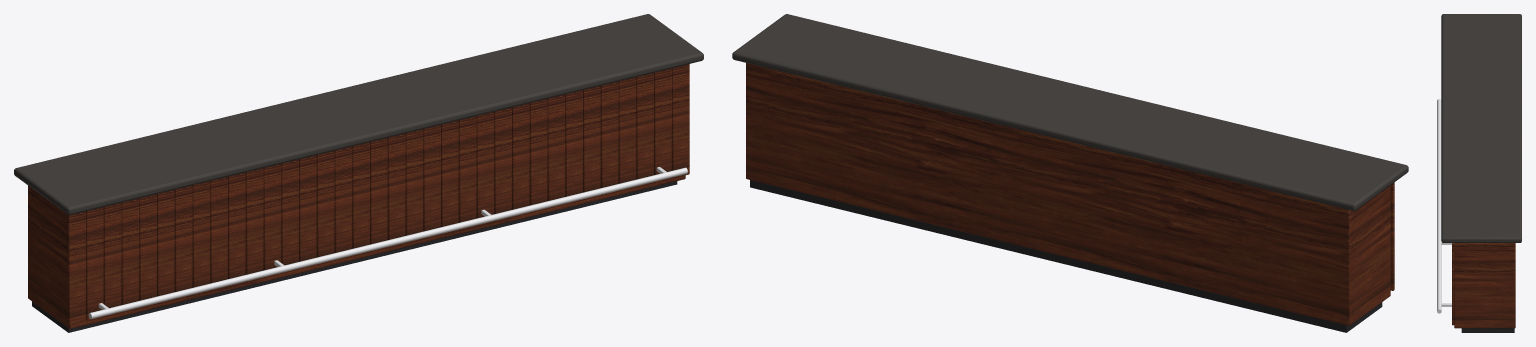
File: bar_counter.glb
The picture shows the model from 3 angles, left to right: view 1: azimuth 30°, elevation 25°; view 2: azimuth 150°, elevation 25°; view 3: azimuth 270°, elevation 25°; orthographic projection. The views are drawn at different scales.
Parts seen in each view (by area): view 1: dark_wood, granite_polished, chrome, black_plastic; view 2: dark_wood, granite_polished, black_plastic; view 3: granite_polished, dark_wood, chrome, black_plastic.
Boxes of the visible parts, x1,y1,x2,y2 form: dark_wood: (28, 64, 689, 328); granite_polished: (14, 14, 703, 214); chrome: (88, 167, 687, 318); black_plastic: (32, 181, 677, 332); dark_wood: (746, 63, 1394, 325); granite_polished: (732, 14, 1408, 210); black_plastic: (750, 180, 1382, 332); granite_polished: (1441, 14, 1521, 242); dark_wood: (1452, 243, 1515, 328); chrome: (1437, 99, 1451, 313); black_plastic: (1461, 328, 1514, 332).
Size of the model in its own units: 5.02 by 1.04 by 0.8019.
Materials: 4 (1 with a texture image).
